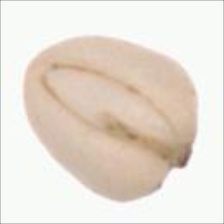L5: (40, 63, 179, 158), (157, 127, 196, 189)
L6: (22, 33, 200, 204)
